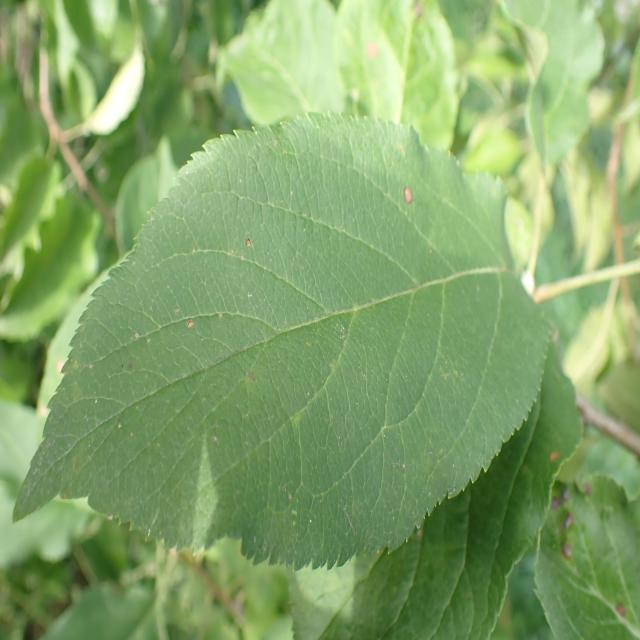Black Rot: (390, 175, 420, 229), (236, 230, 258, 265), (182, 313, 200, 334)
